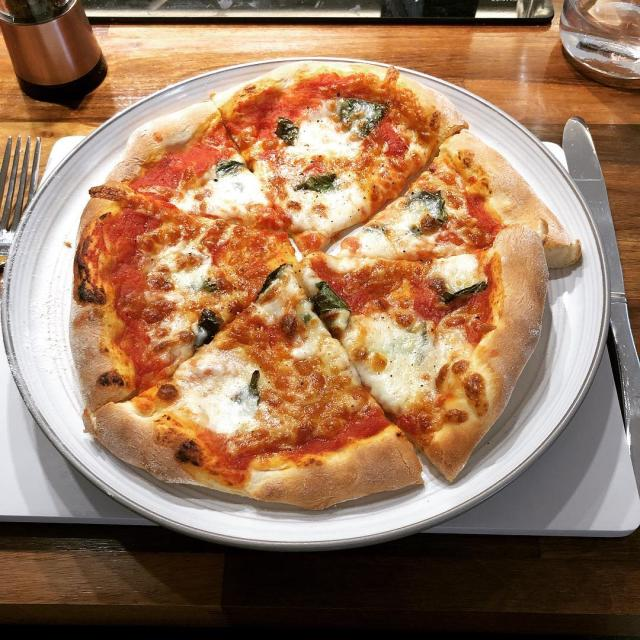basil: (294, 274, 354, 326), (334, 95, 388, 141), (402, 189, 450, 233), (431, 279, 498, 307), (190, 302, 221, 350), (236, 366, 268, 405), (269, 113, 301, 151), (257, 261, 287, 298), (290, 174, 342, 193), (209, 154, 245, 180), (199, 277, 224, 298)
pizza: (70, 62, 580, 509)
